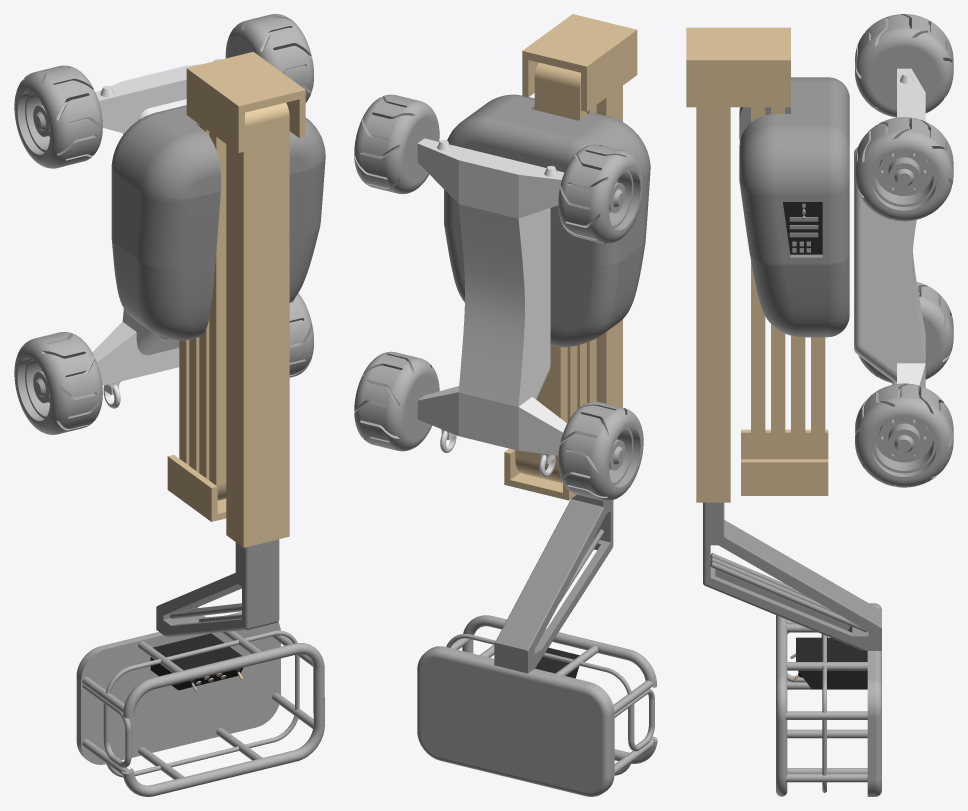
File: BOOM_LIFT v13.fbx
The picture shows the model from 3 angles, left to right: view 1: azimuth 30°, elevation 25°; view 2: azimuth 150°, elevation 25°; view 3: azimuth 270°, elevation 25°; orthographic projection. The views are drawn at different scales.
Visible parts, largest first — view 1: Body14, Body12, Body6, Body1, Body2, Body3, Body11, Body13, Body10, Body4, Body8, Body9 (+1 smaller); view 2: Body1, Body14, Body6, Body13, Body2, Body3, Body11, Body4, Body5, Body10, Body8, Body12 (+1 smaller); view 3: Body6, Body12, Body1, Body14, Body13, Body11, Body5, Body4, Body2, Body10, Body9, Body8 (+1 smaller).
Part boxes in pixels (bbox=[...]): Body14: bbox=[76, 611, 324, 796]; Body12: bbox=[226, 102, 289, 547]; Body6: bbox=[111, 105, 325, 340]; Body1: bbox=[92, 58, 221, 408]; Body2: bbox=[14, 65, 102, 168]; Body3: bbox=[14, 332, 102, 434]; Body11: bbox=[186, 52, 305, 152]; Body13: bbox=[156, 539, 279, 636]; Body10: bbox=[199, 124, 226, 500]; Body4: bbox=[225, 14, 313, 102]; Body8: bbox=[179, 337, 199, 472]; Body9: bbox=[167, 455, 226, 521]; Body1: bbox=[417, 138, 566, 477]; Body14: bbox=[417, 615, 657, 796]; Body6: bbox=[444, 94, 650, 347]; Body13: bbox=[494, 494, 613, 673]; Body2: bbox=[558, 144, 643, 243]; Body3: bbox=[558, 401, 643, 500]; Body11: bbox=[522, 14, 637, 111]; Body4: bbox=[354, 94, 439, 194]; Body5: bbox=[354, 351, 439, 451]; Body10: bbox=[534, 62, 596, 408]; Body8: bbox=[515, 345, 577, 483]; Body12: bbox=[596, 86, 622, 407]; Body6: bbox=[739, 77, 849, 337]; Body12: bbox=[696, 107, 730, 502]; Body1: bbox=[854, 68, 925, 387]; Body14: bbox=[776, 603, 881, 796]; Body13: bbox=[703, 502, 881, 650]; Body11: bbox=[686, 27, 790, 107]; Body5: bbox=[855, 383, 953, 487]; Body4: bbox=[855, 117, 953, 221]; Body2: bbox=[855, 14, 953, 117]; Body10: bbox=[751, 107, 785, 459]; Body9: bbox=[741, 429, 828, 495]; Body8: bbox=[791, 335, 825, 459].
Size of the model in its own units: 210 by 550 by 186.
